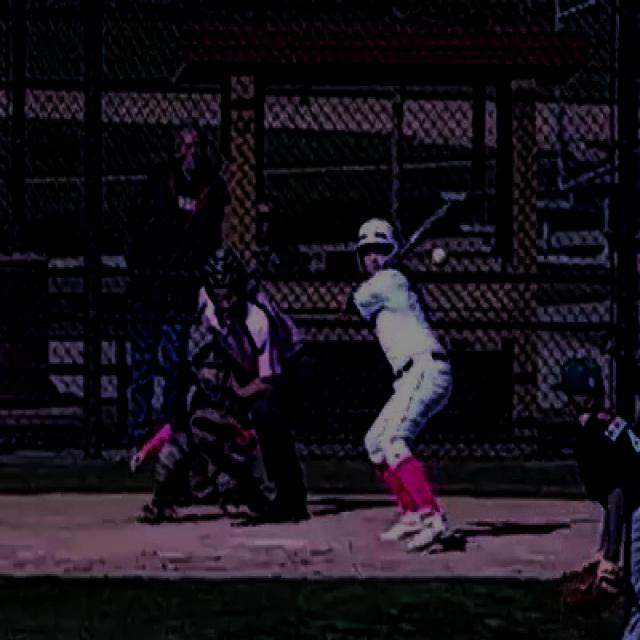baseball: (433, 249, 447, 265)
